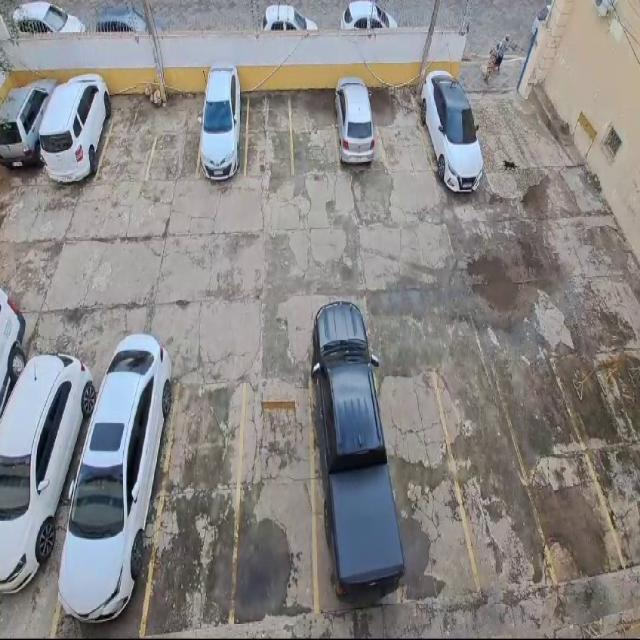empty: (487, 341, 622, 573), (429, 347, 552, 589), (143, 367, 246, 635), (374, 349, 482, 598), (230, 363, 315, 624), (99, 92, 163, 185), (373, 96, 437, 182), (290, 91, 341, 178), (148, 99, 202, 181), (245, 96, 294, 177)
notEmpty: (53, 349, 182, 639), (0, 335, 109, 635), (309, 336, 402, 619), (31, 74, 118, 183), (413, 82, 493, 194), (0, 70, 55, 189), (195, 90, 249, 189), (334, 86, 382, 179)
